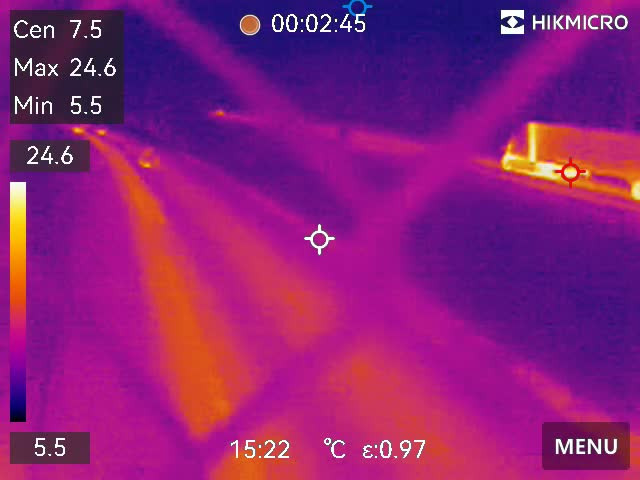heavyTruck: (499, 114, 640, 195)
